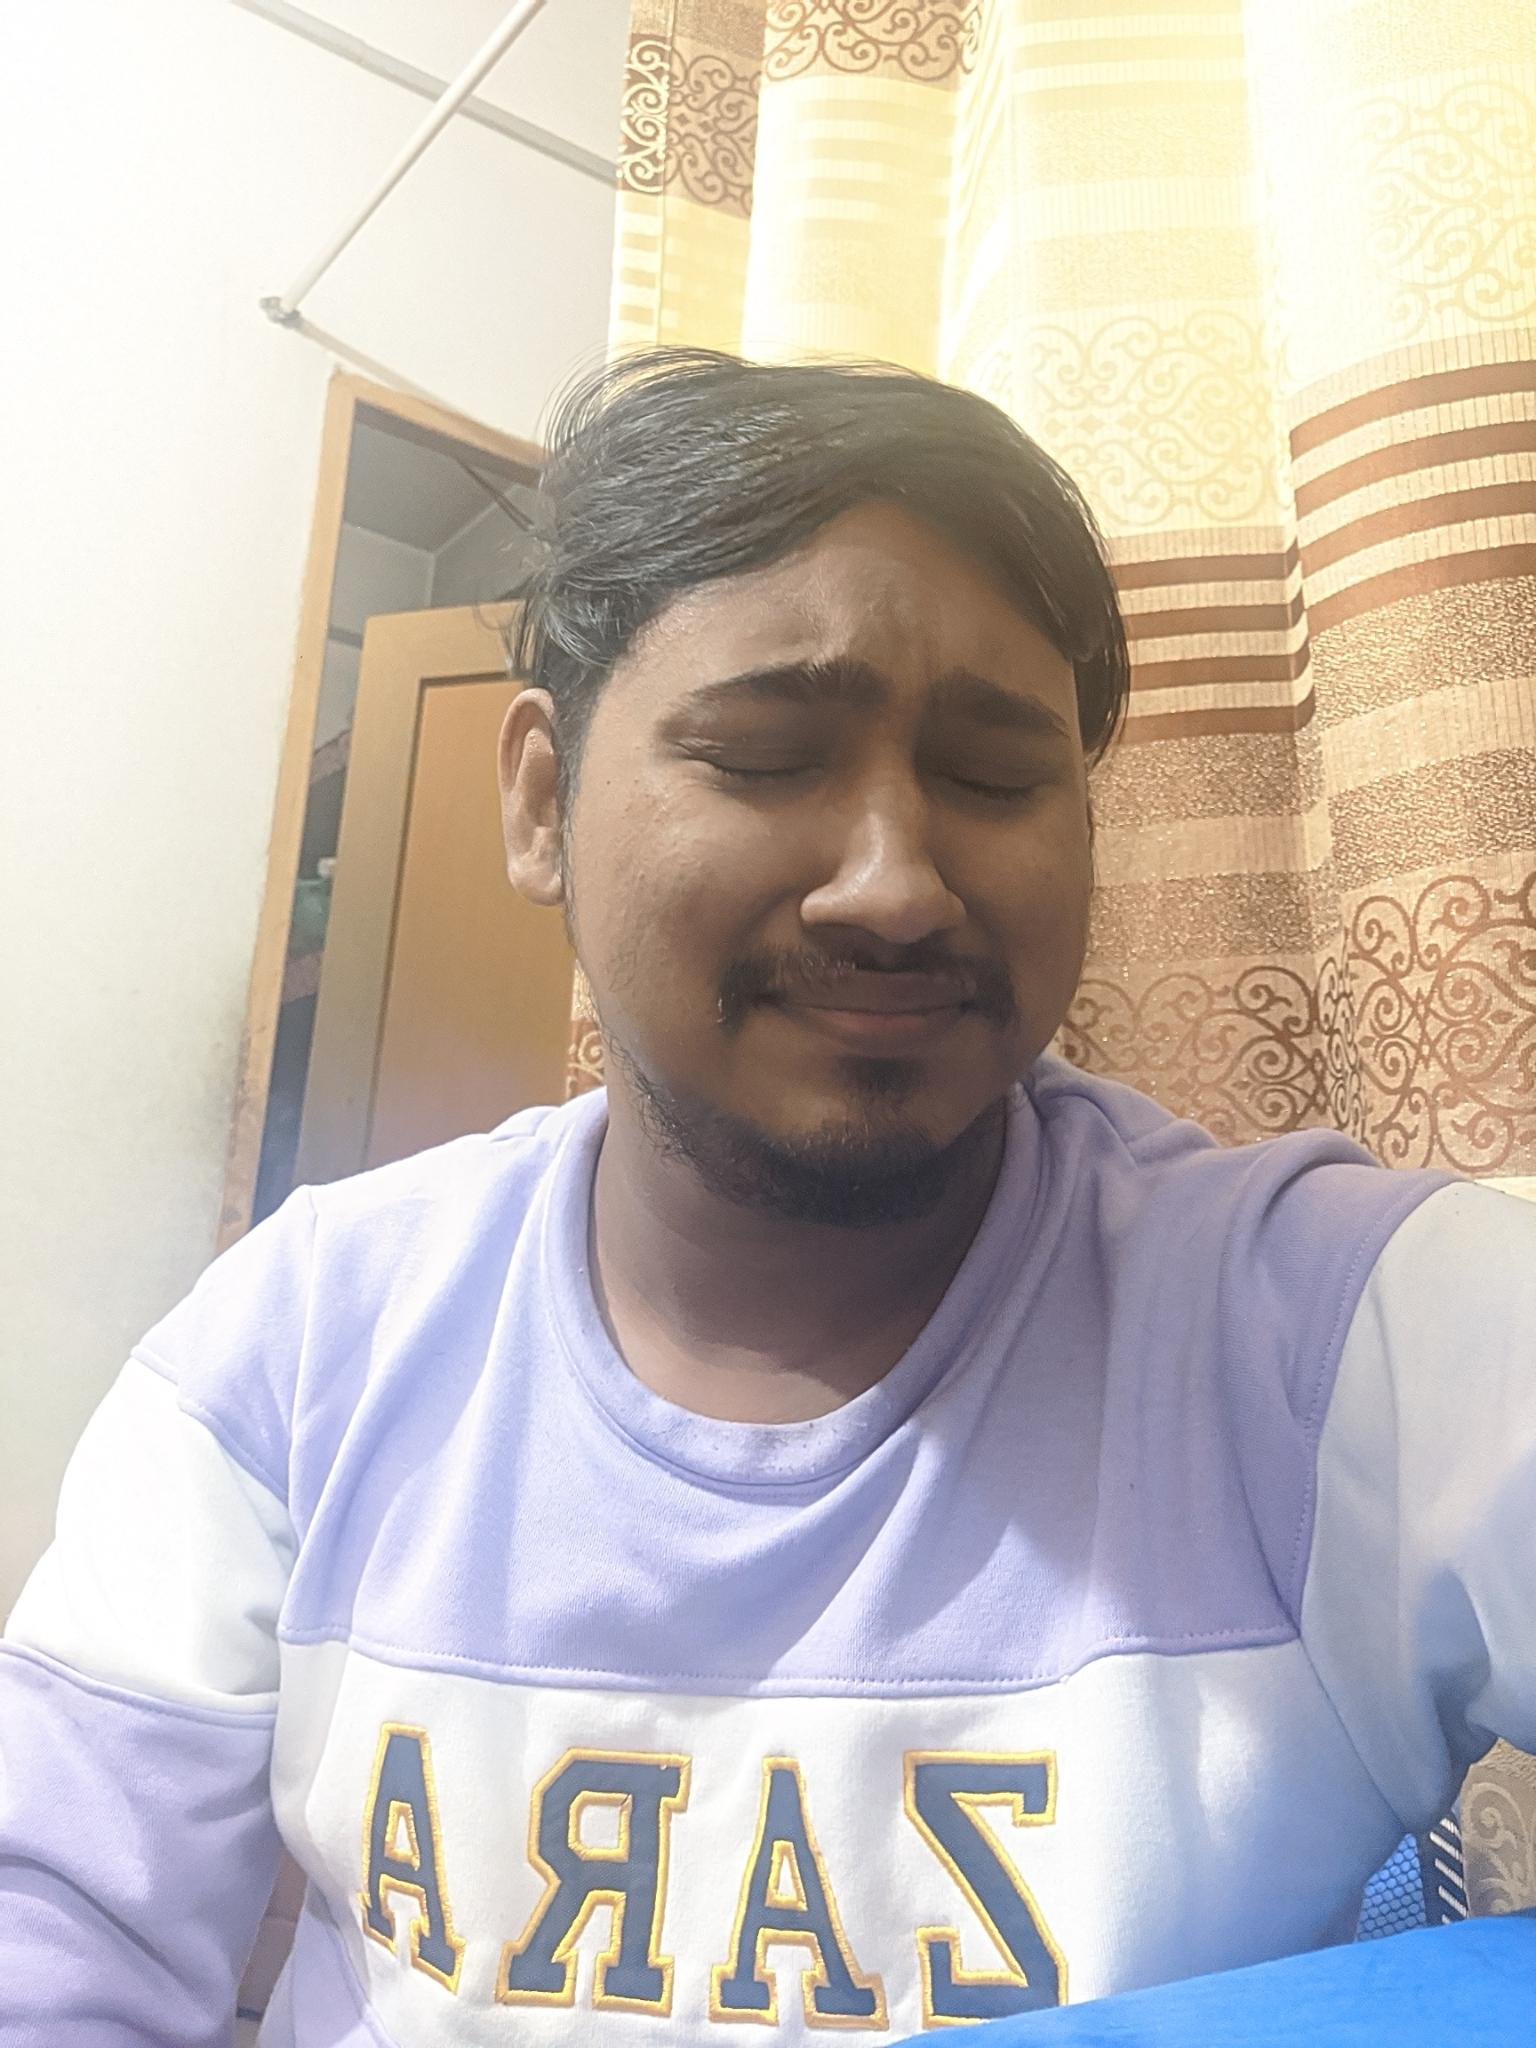Sad: (636, 584, 1115, 1187)
